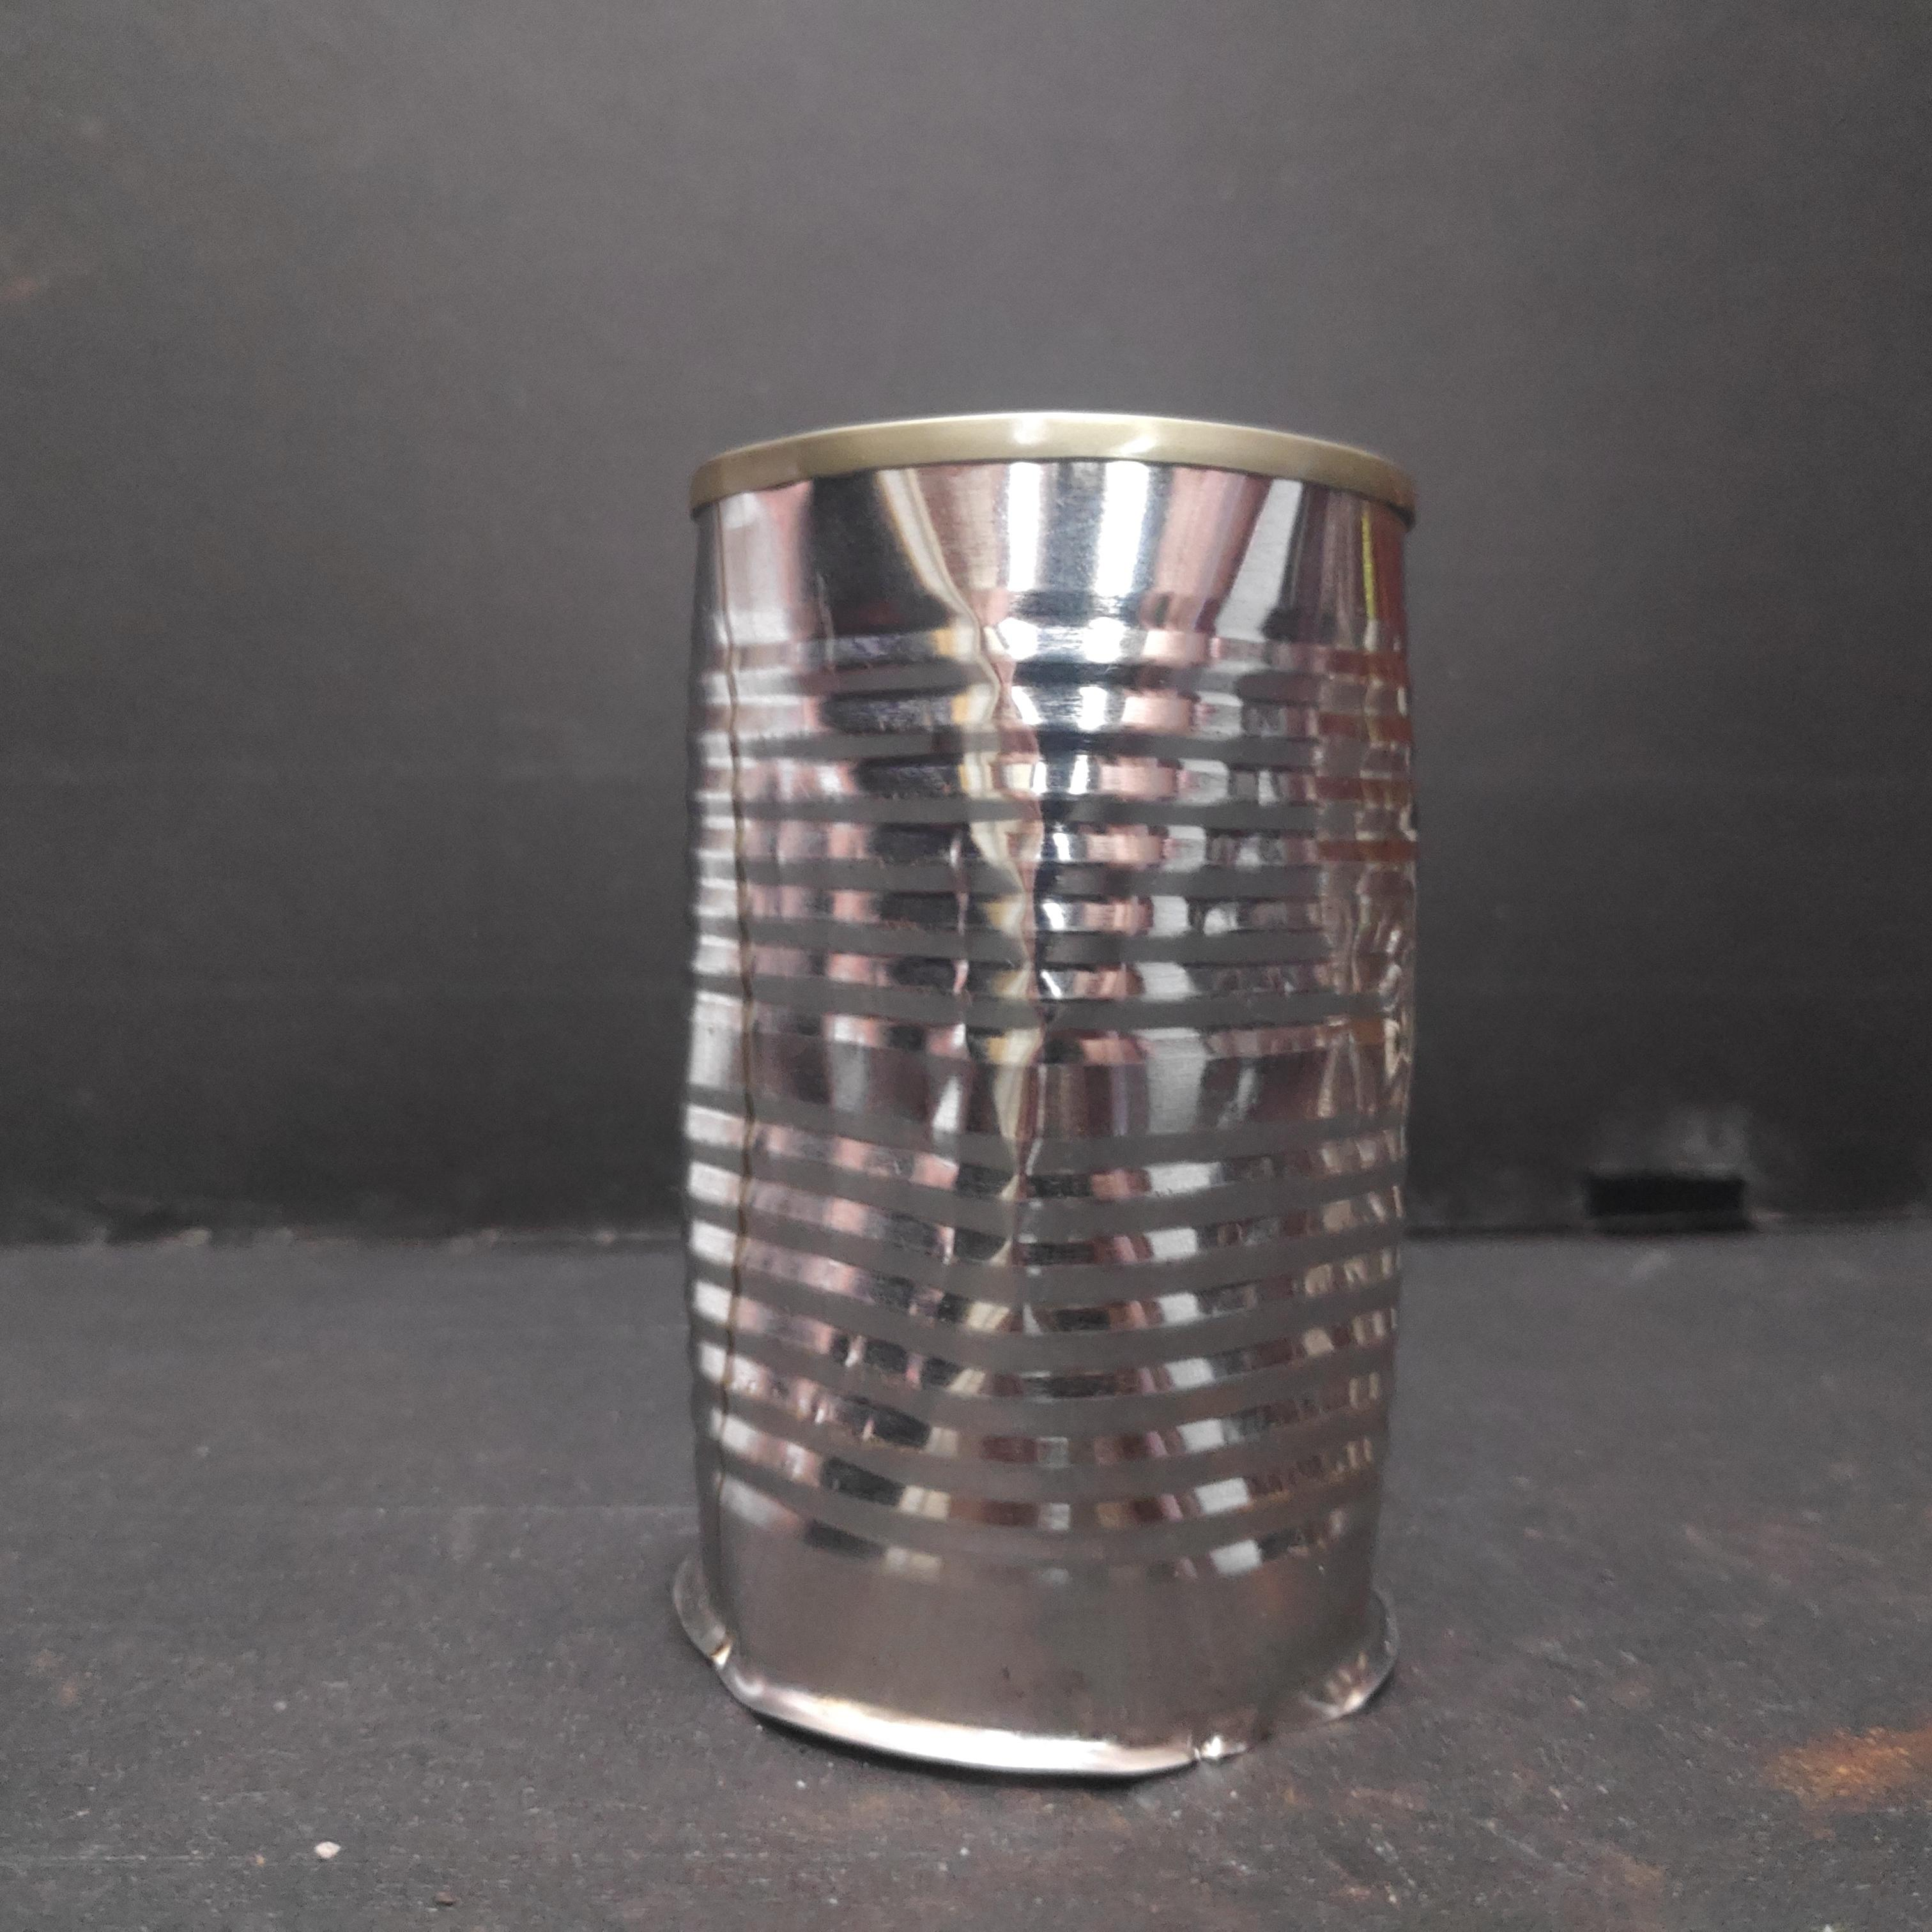Minor Defect: (660, 400, 1438, 1794)
